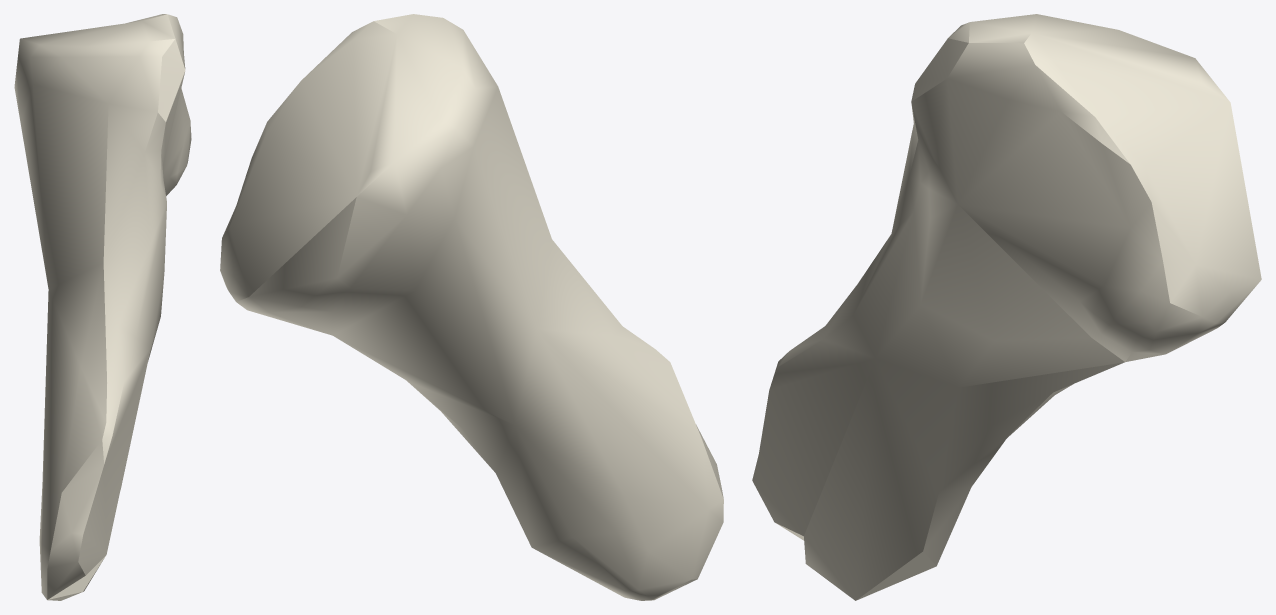
Rendered from fma24459_fj3198.glb.
The picture shows the model from 3 angles, left to right: view 1: azimuth 30°, elevation 25°; view 2: azimuth 150°, elevation 25°; view 3: azimuth 270°, elevation 25°; orthographic projection. The views are drawn at different scales.
Visible parts, largest first — view 1: FMA24459_FJ3198; view 2: FMA24459_FJ3198; view 3: FMA24459_FJ3198.
Part boxes in pixels (left/top/right/bottom): FMA24459_FJ3198: left=14, top=14, right=191, bottom=600; FMA24459_FJ3198: left=220, top=14, right=723, bottom=600; FMA24459_FJ3198: left=752, top=14, right=1261, bottom=600.
Size of the model in its own units: 0.0137 by 0.023 by 0.0162.
